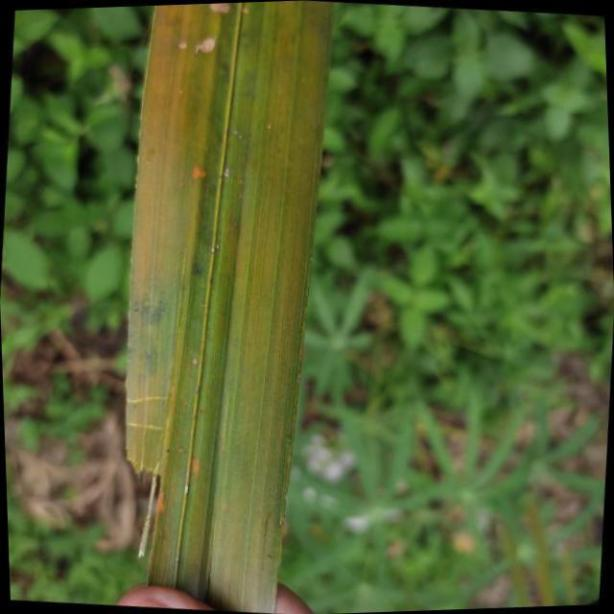Megnesium: (117, 0, 329, 614)
